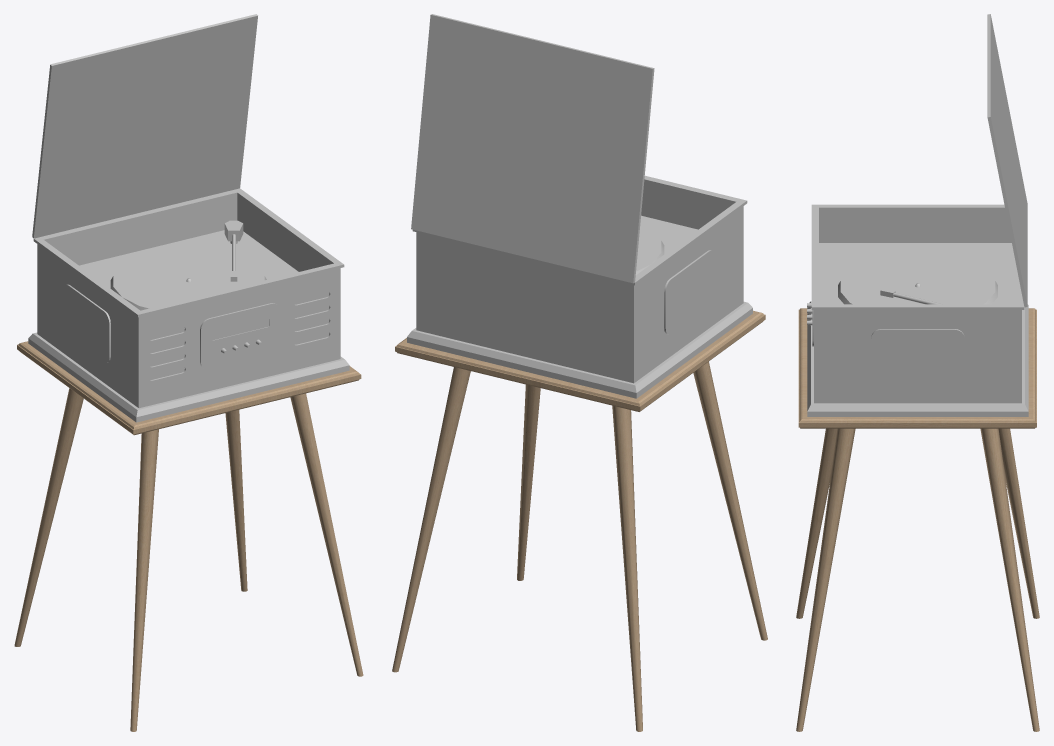
Rendered from D_Display_202.fbx.
3 views of the same model, side by side, from view 1: azimuth 30°, elevation 25°; view 2: azimuth 150°, elevation 25°; view 3: azimuth 270°, elevation 25° (orthographic). The views are drawn at different scales.
Parts seen in each view (by area): view 1: D_Display_202; view 2: D_Display_202; view 3: D_Display_202.
Part boxes in pixels (box(x1,y1,x2,y2)): D_Display_202: box(14, 14, 363, 731); D_Display_202: box(392, 14, 767, 731); D_Display_202: box(796, 14, 1039, 731).
Size of the model in its own units: 0.8015 by 1.96 by 0.712.
